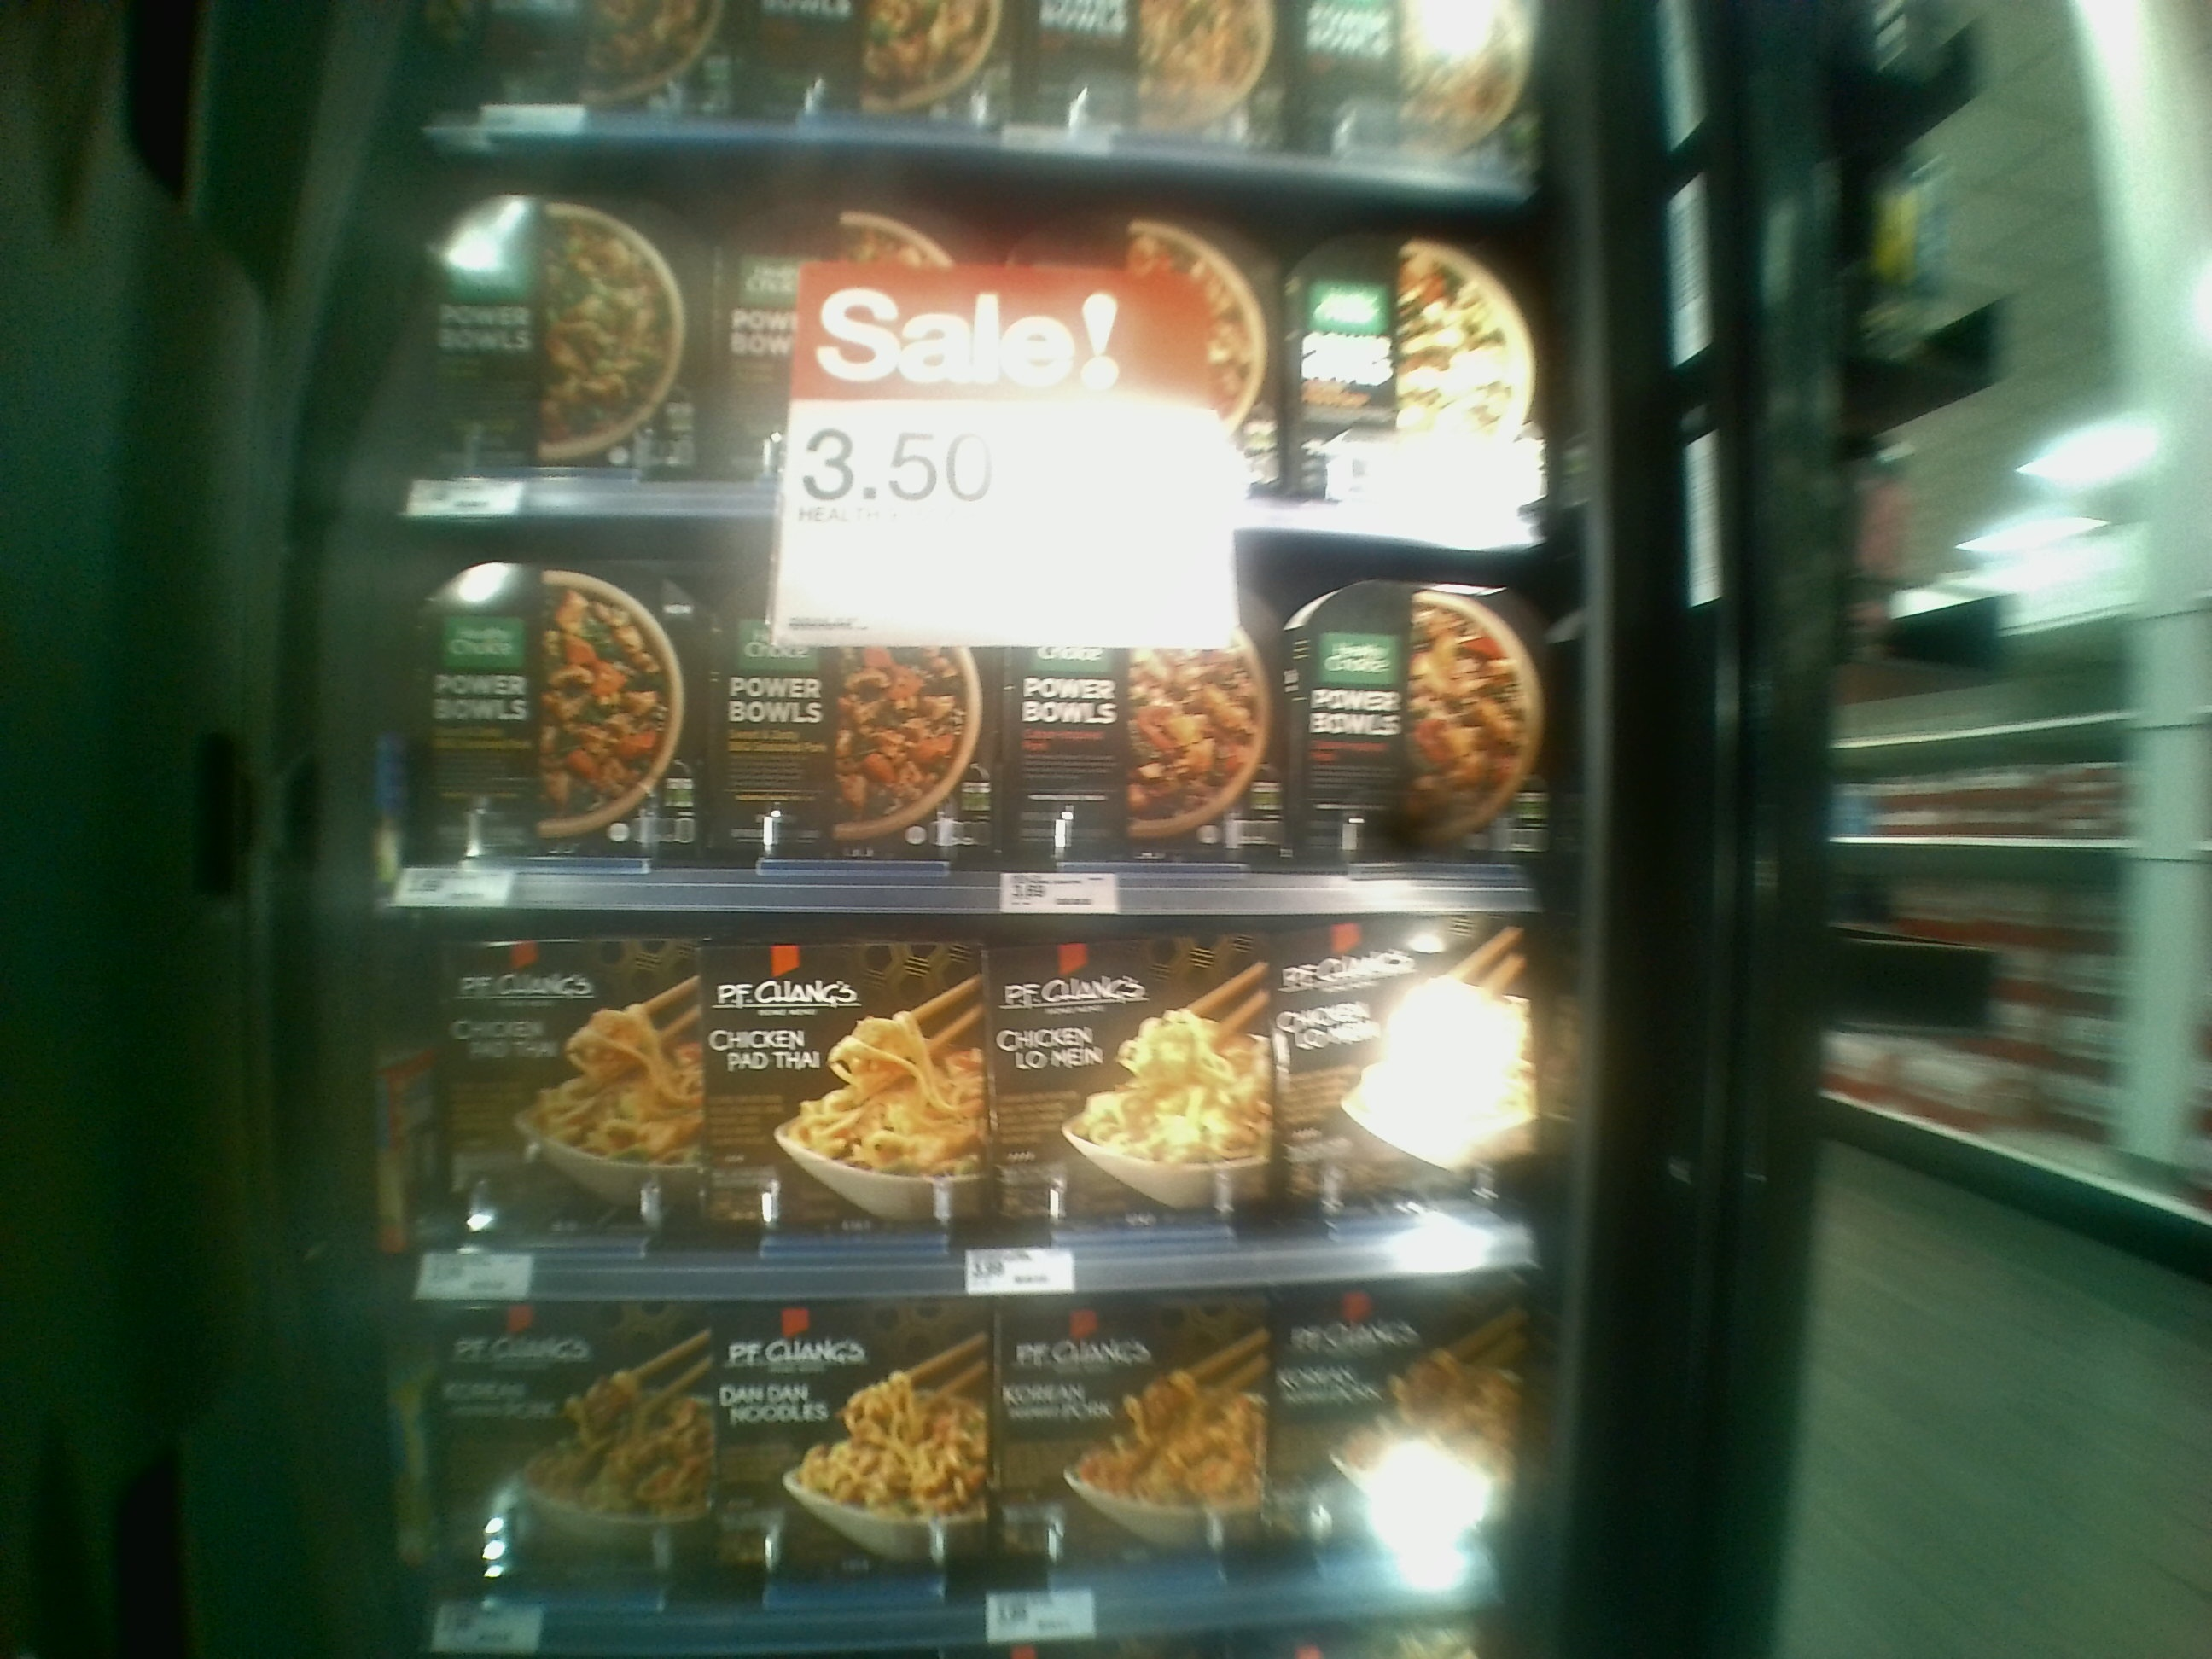shelf: (418, 125, 1561, 542), (399, 502, 1555, 894), (385, 878, 1534, 1263)
